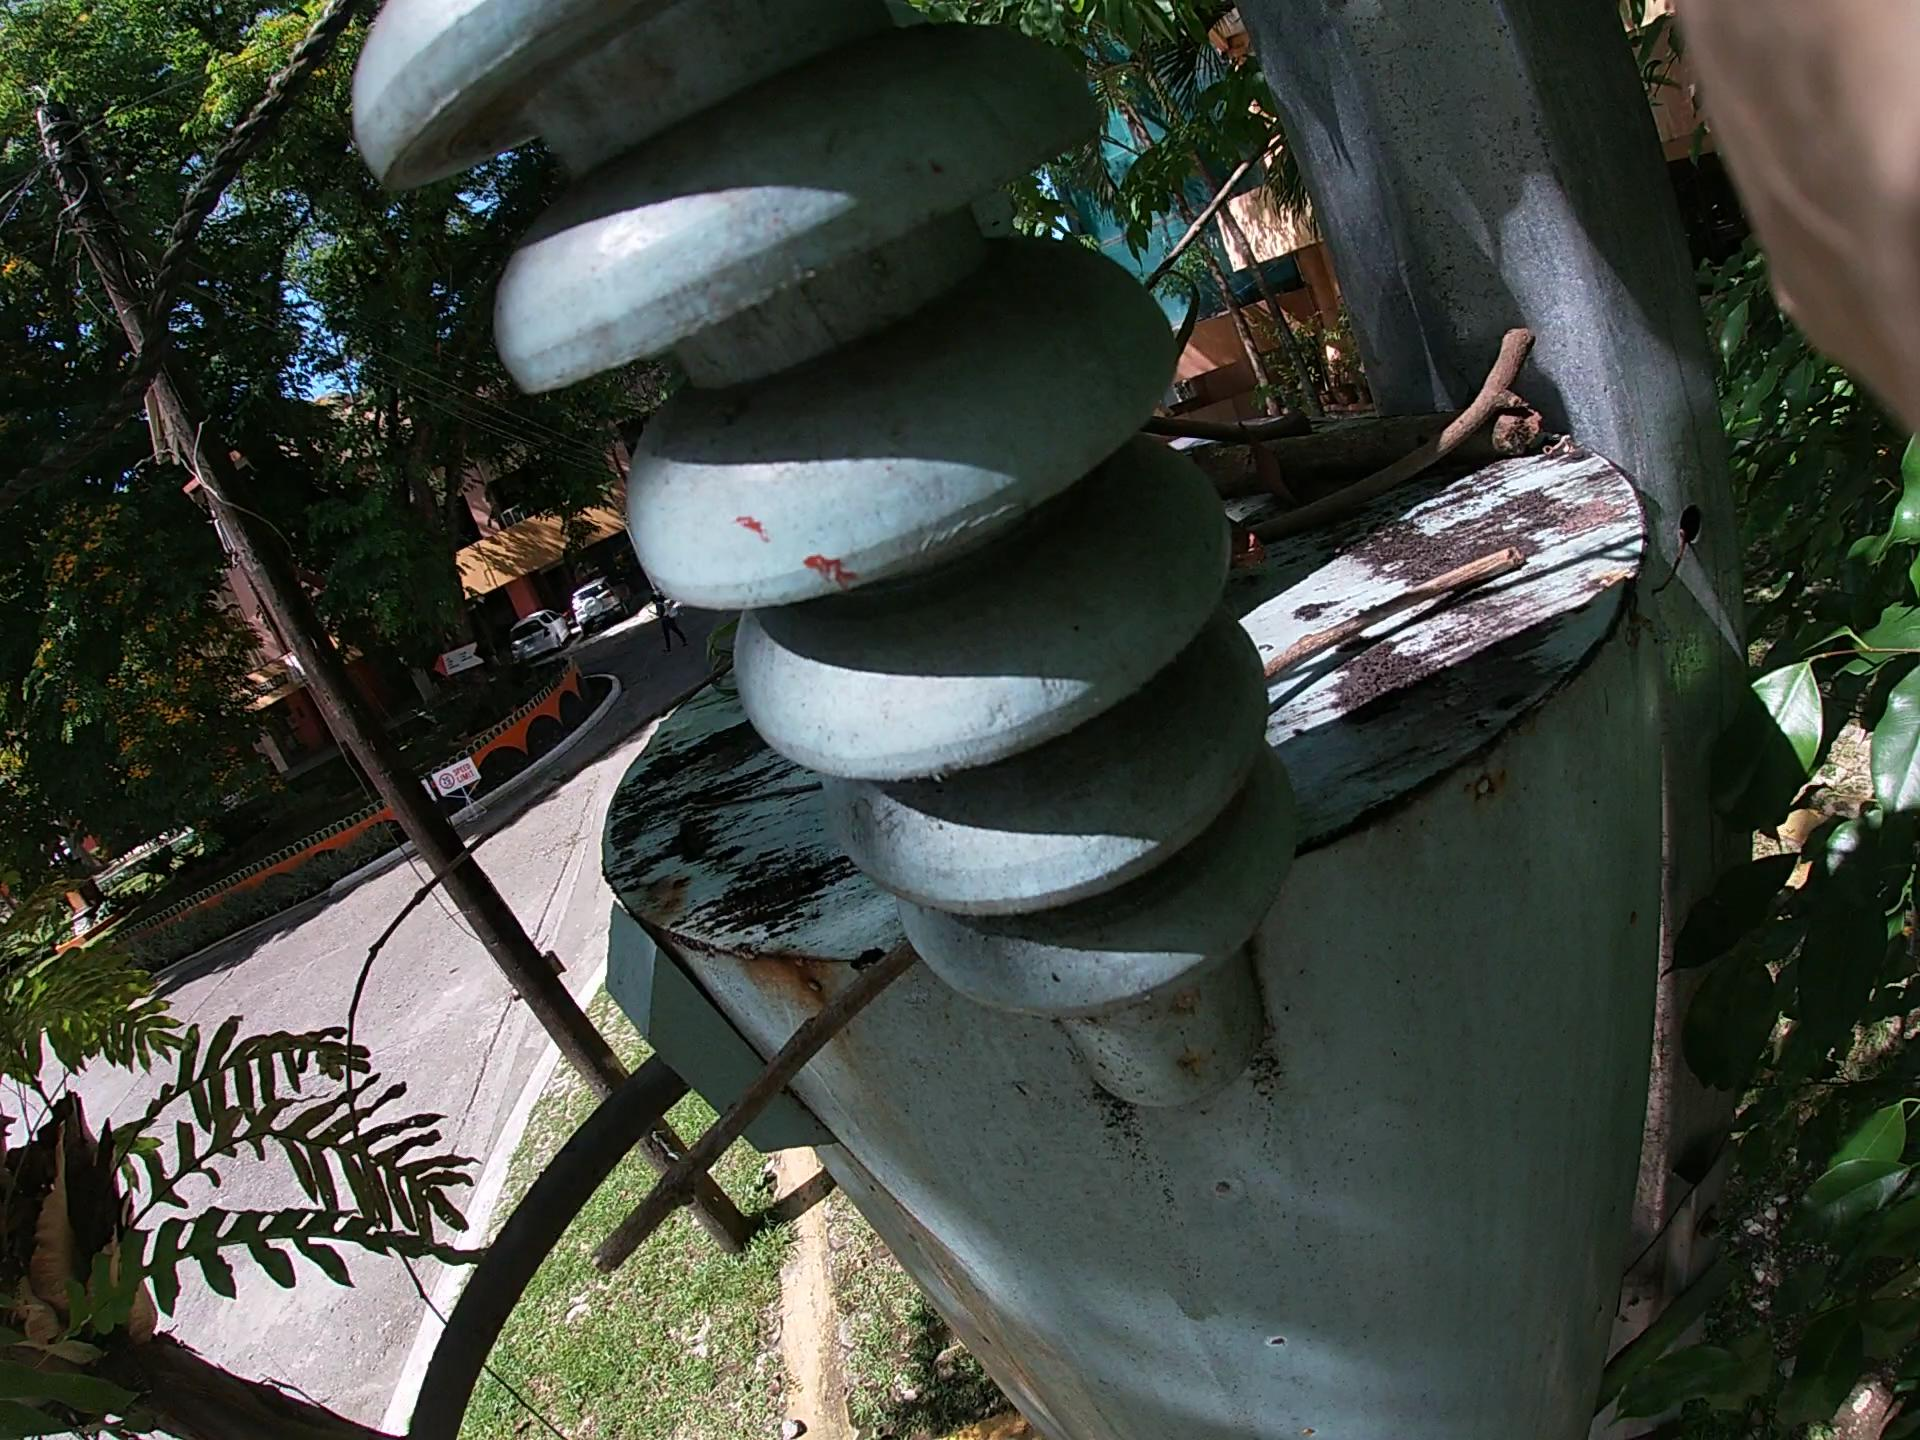branch with leaves: (1132, 369, 1516, 504)
tree branch: (230, 191, 1232, 1156), (624, 560, 1492, 1257), (1252, 290, 1545, 573)
